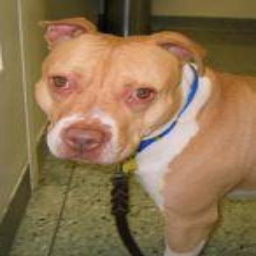dog: (34, 16, 251, 254)
